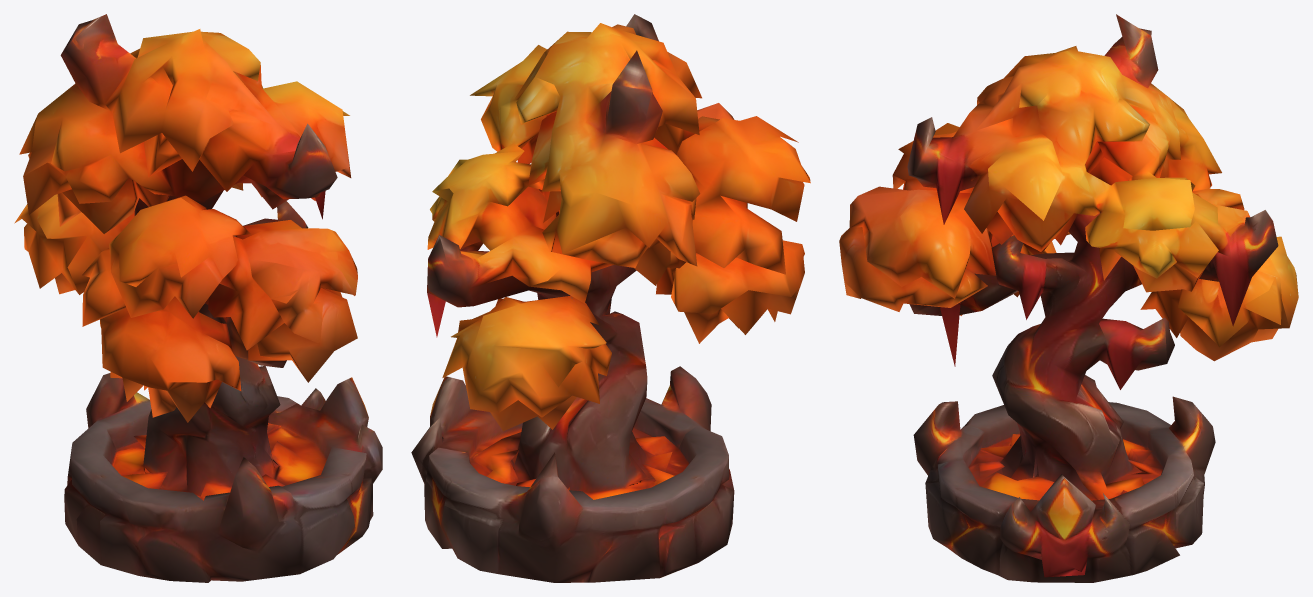
File: Town_Horns_Tree_raw.glb
The picture shows the model from 3 angles, left to right: view 1: azimuth 30°, elevation 25°; view 2: azimuth 150°, elevation 25°; view 3: azimuth 270°, elevation 25°; orthographic projection. The views are drawn at different scales.
Visible parts, largest first — view 1: tripo_node_f7d24064-17bd-4313-88d5-535f9d089b39; view 2: tripo_node_f7d24064-17bd-4313-88d5-535f9d089b39; view 3: tripo_node_f7d24064-17bd-4313-88d5-535f9d089b39.
Part boxes in pixels (x1=…): tripo_node_f7d24064-17bd-4313-88d5-535f9d089b39: x1=14, y1=14, x2=382, y2=582; tripo_node_f7d24064-17bd-4313-88d5-535f9d089b39: x1=411, y1=14, x2=810, y2=582; tripo_node_f7d24064-17bd-4313-88d5-535f9d089b39: x1=839, y1=14, x2=1298, y2=582.
Size of the model in its own units: 0.6491 by 1 by 0.882.
1 material, 1 textured.
